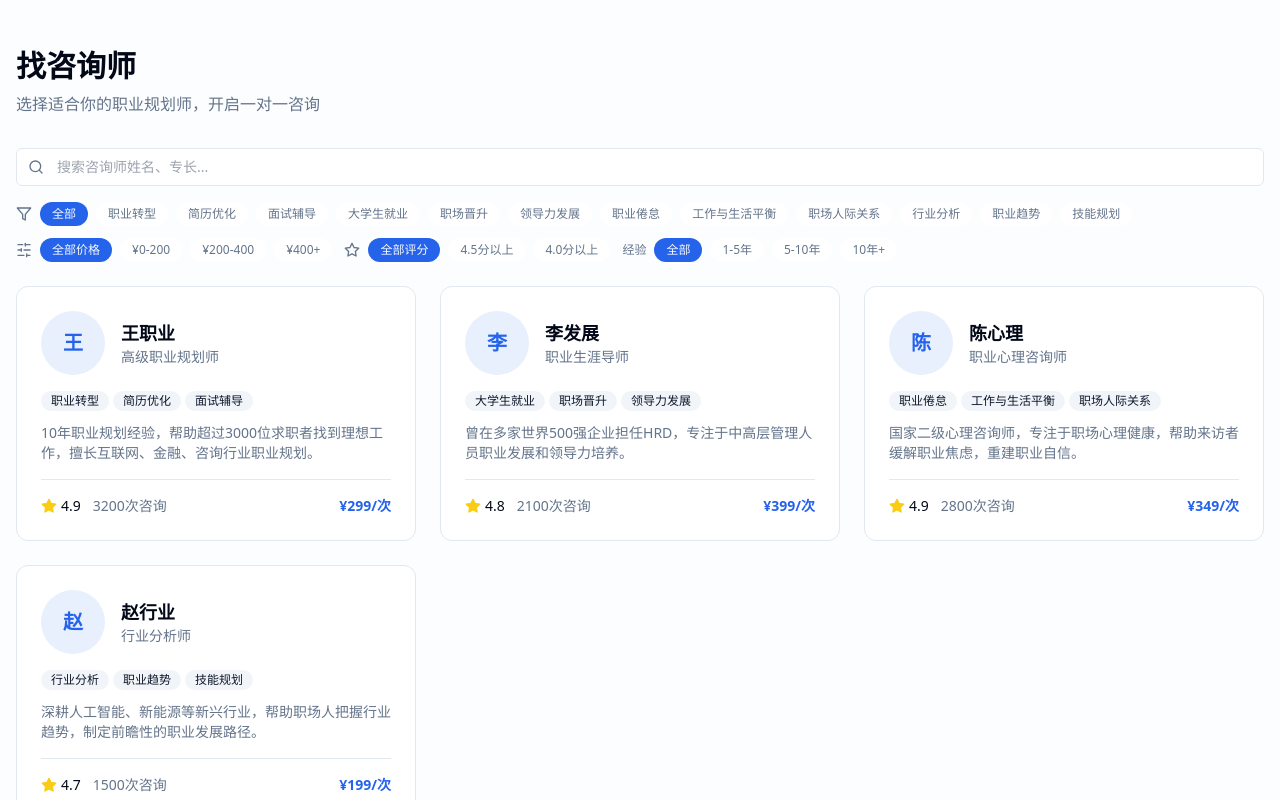
Test: Counselors Page › filters counselors by specialty
The image size is (1280, 800).
Click the button "职业转型" at (132, 214), box x1=96 y1=202 x2=168 y2=226
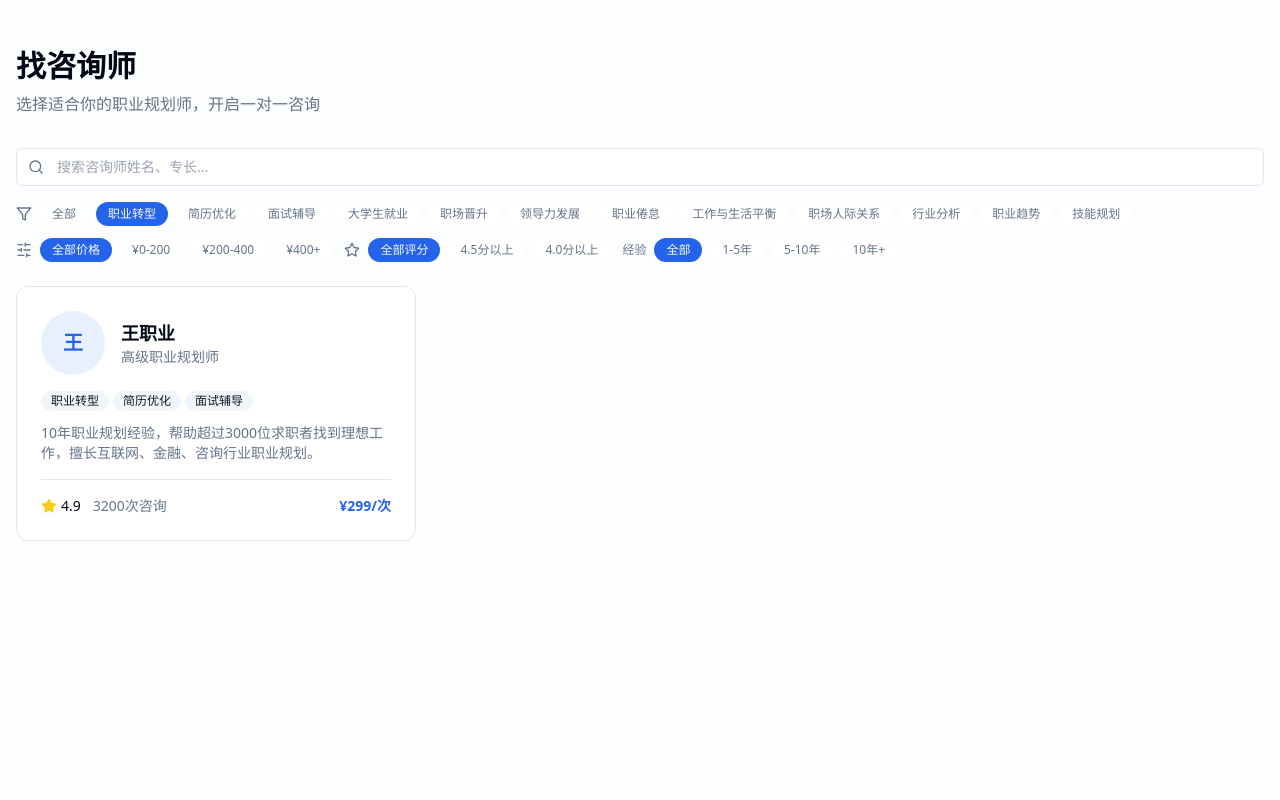
Expected: the heading "王职业" is shown, x1=121 y1=321 x2=175 y2=345
Now the link "李发展" is gone
